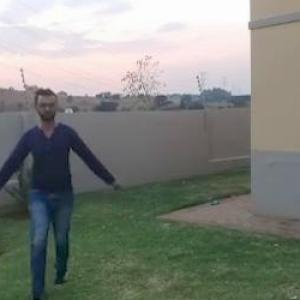land: (1, 79, 114, 299)
